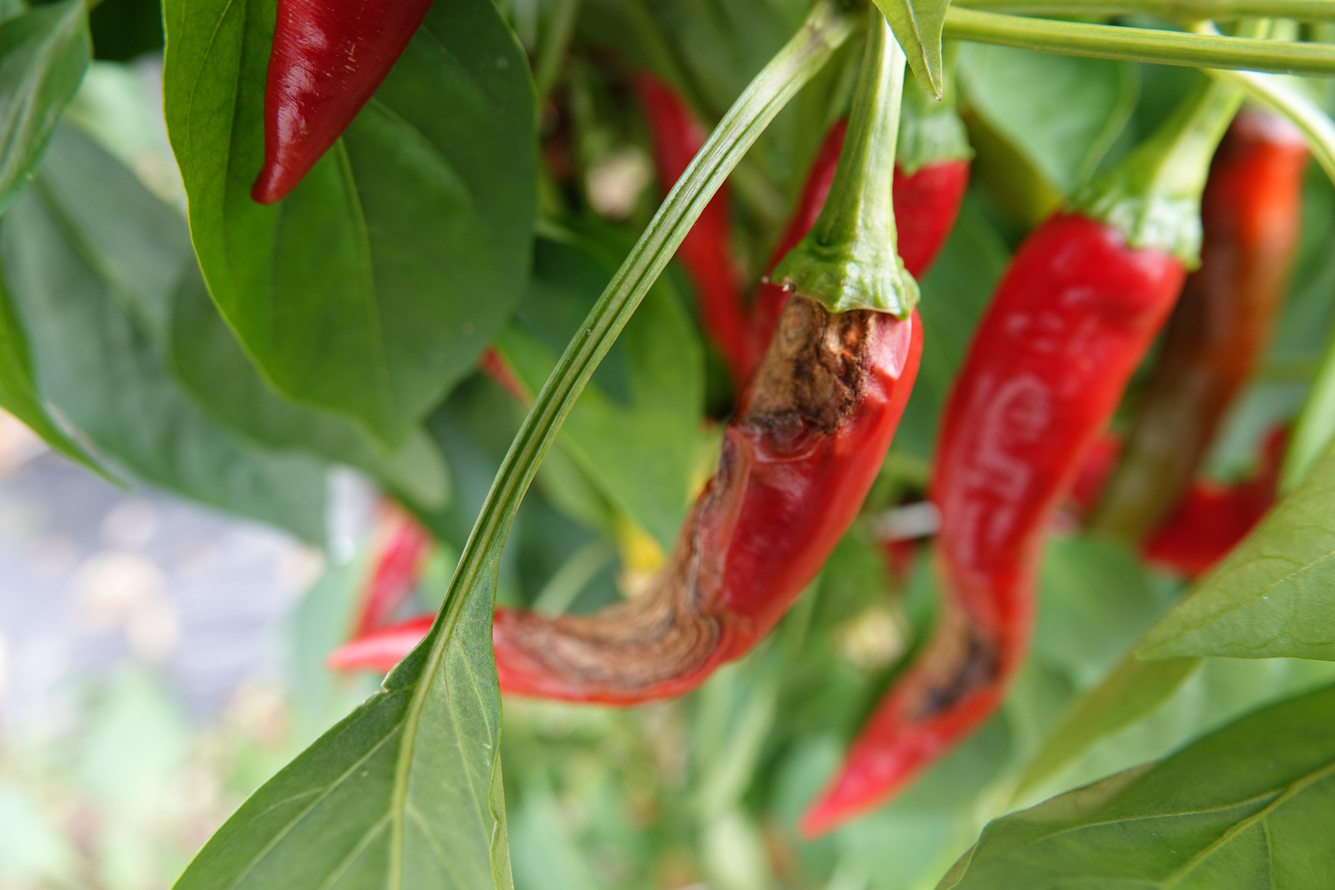Busuk Buah Antraknosa: (345, 241, 934, 714), (798, 174, 1206, 838)
